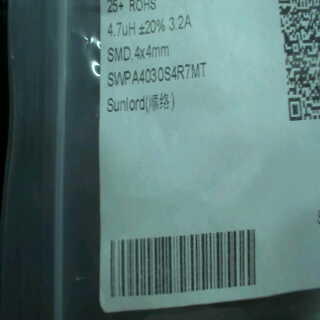4.7uH: (106, 20, 137, 41)
